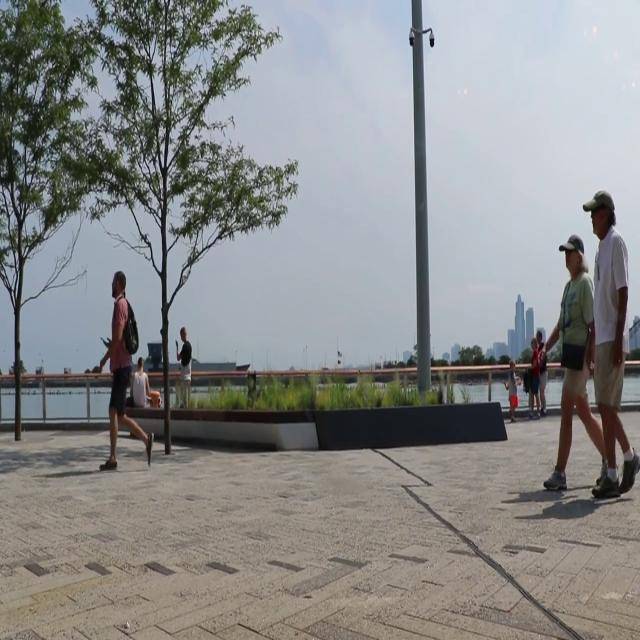normal: (578, 193, 640, 514), (545, 234, 610, 479), (97, 265, 161, 477)
